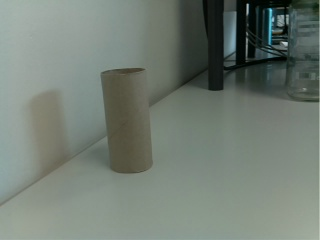rollo papel: (98, 67, 156, 175)
